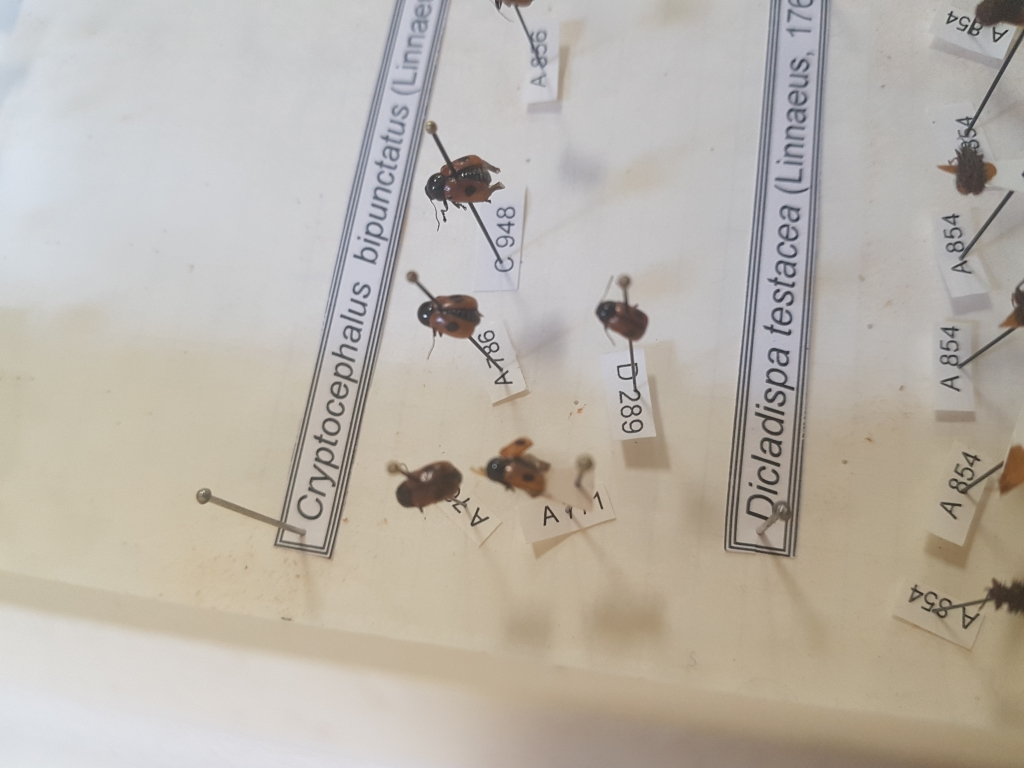Cryptocephalus_bipunctatus: (425, 151, 506, 225), (479, 432, 552, 505), (411, 290, 485, 357)
